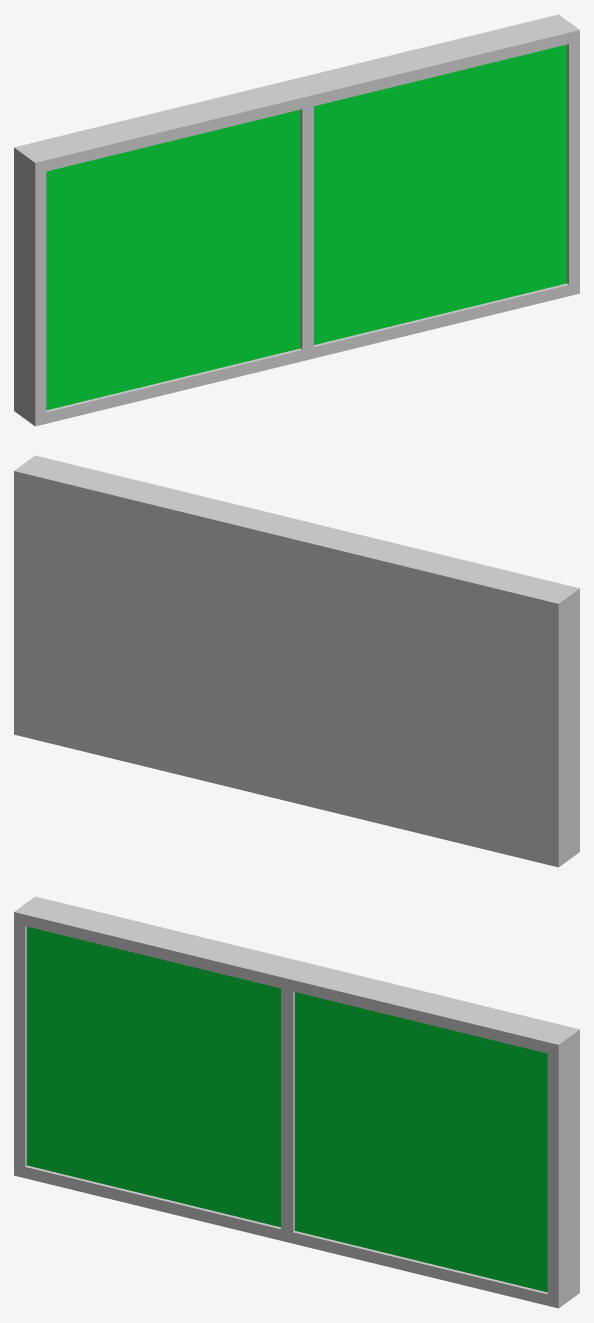
File: Mirror.fbx
3 views of the same model, one above another, from view 1: azimuth 30°, elevation 25°; view 2: azimuth 150°, elevation 25°; view 3: azimuth 330°, elevation 25° (orthographic).
Parts seen in each view (by area): view 1: Cube.033; view 2: Cube.033; view 3: Cube.033.
Boxes of the visible parts, bbox=[...] form: Cube.033: bbox=[14, 14, 579, 426]; Cube.033: bbox=[14, 455, 579, 867]; Cube.033: bbox=[14, 896, 579, 1308].
Bounding box in the file's own units: 645 × 298 × 43.59.
